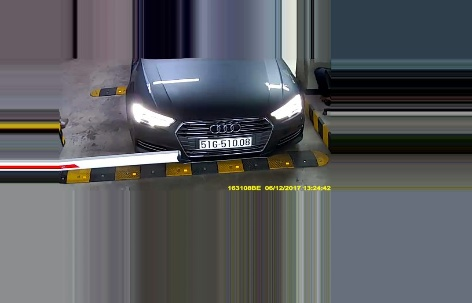plate: (197, 137, 252, 151)
